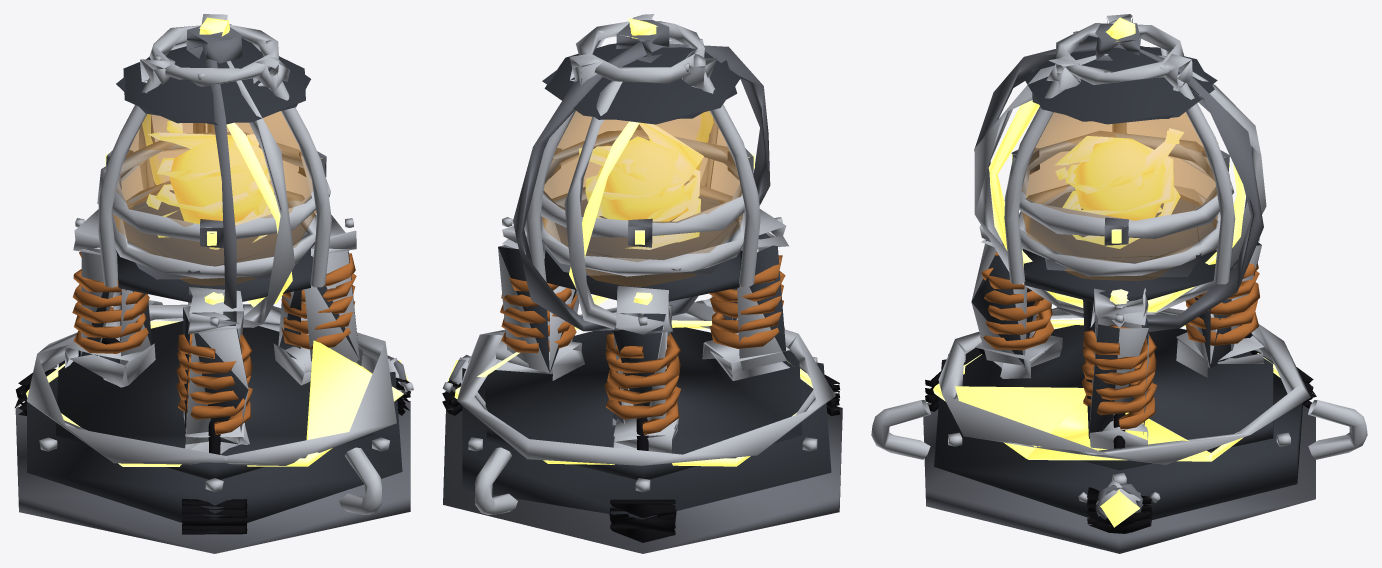
Rendered from slowfield.glb.
3 renders of one model, left to right at view 1: azimuth 30°, elevation 25°; view 2: azimuth 150°, elevation 25°; view 3: azimuth 270°, elevation 25°, orthographic.
Visible parts, largest first — view 1: cristal, base_tapa, base_cuerpo, base_labio, base_aro, tapa, base_fisura, cristal_banda, giro_1, bobina_hilo_2, cuna, bobina_post_2 (+29 smaller); view 2: base_tapa, cristal, base_cuerpo, base_labio, base_aro, giro_3, tapa, bobina_hilo_1, cristal_banda, cuna_aro, nucleo, giro_1 (+27 smaller); view 3: cristal, base_cuerpo, base_tapa, base_labio, base_aro, tapa, base_fisura, giro_3, cristal_banda, giro_1, bobina_hilo_3, nucleo (+24 smaller).
Part boxes in pixels (x1,y1,x2,y2): cristal: [113, 111, 316, 285]; base_tapa: [56, 321, 373, 479]; base_cuerpo: [27, 372, 402, 533]; base_labio: [15, 400, 410, 553]; base_aro: [27, 304, 396, 465]; tapa: [116, 38, 310, 125]; base_fisura: [26, 321, 403, 466]; cristal_banda: [97, 132, 330, 241]; giro_1: [139, 42, 295, 327]; bobina_hilo_2: [176, 333, 252, 434]; cuna: [123, 190, 314, 279]; bobina_post_2: [183, 306, 248, 444]; base_tapa: [484, 327, 802, 479]; cristal: [542, 111, 742, 286]; base_cuerpo: [462, 362, 831, 519]; base_labio: [443, 406, 842, 553]; base_aro: [457, 302, 835, 465]; giro_3: [513, 42, 770, 331]; tapa: [542, 43, 740, 124]; bobina_hilo_1: [604, 333, 680, 434]; cristal_banda: [541, 130, 759, 237]; cuna_aro: [541, 181, 745, 276]; nucleo: [597, 136, 688, 221]; giro_1: [564, 40, 718, 328]; cristal: [1021, 112, 1218, 280]; base_cuerpo: [934, 359, 1303, 520]; base_tapa: [964, 325, 1273, 470]; base_labio: [923, 402, 1315, 553]; base_aro: [938, 307, 1310, 464]; tapa: [1024, 35, 1217, 124]; base_fisura: [933, 319, 1280, 461]; giro_3: [974, 40, 1263, 331]; cristal_banda: [1004, 131, 1234, 238]; giro_1: [974, 54, 1266, 314]; bobina_hilo_3: [1081, 325, 1156, 430]; nucleo: [1073, 139, 1165, 220].
Bounding box in the file's own units: 0.7236 × 0.7783 × 0.8039.
